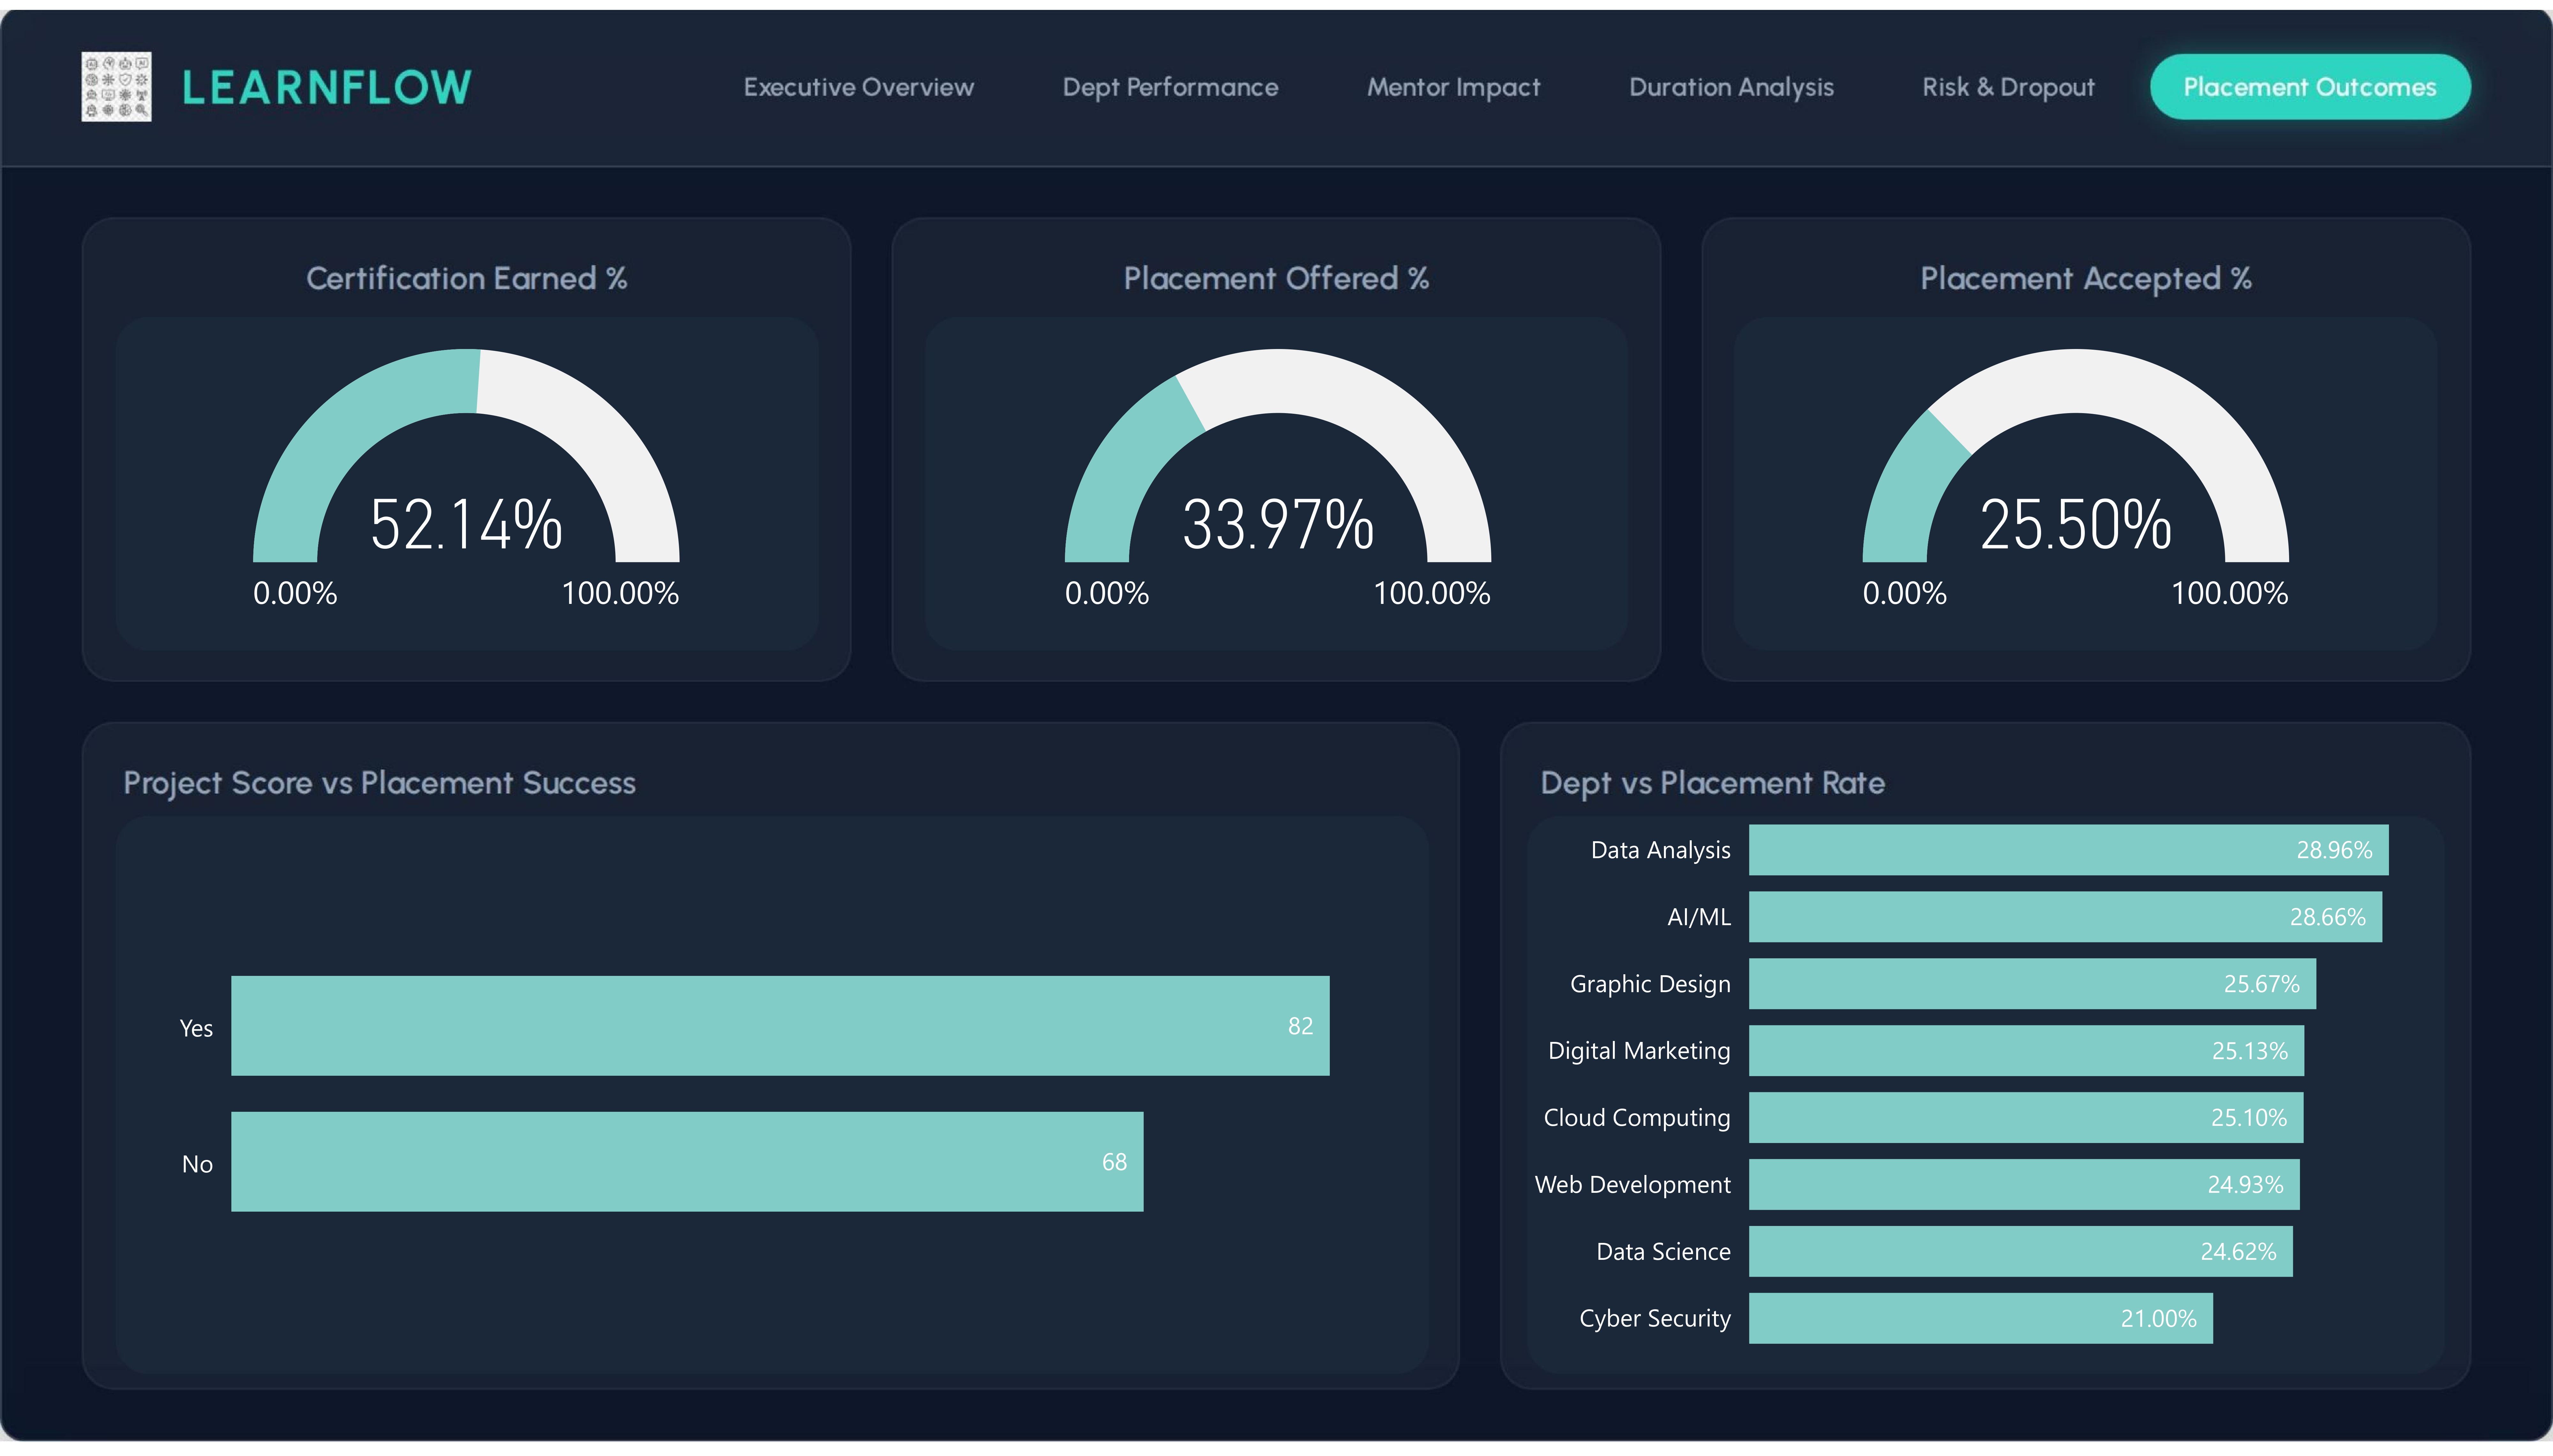

The page's visual inventory and layout, read from the dashboard file:
{"tool":"powerbi","page":{"name":"Placement Outcomes","canvas":[1280,720],"ordinal":5},"visuals":[{"type":"gauge","fields":{"Y":["internship_data.Certification Earned %"]},"box":[65.1,165,337.7,148.4],"z":0},{"type":"gauge","fields":{"Y":["internship_data.Placement Offered %"]},"box":[472.4,165,337.7,148.4],"z":1000},{"type":"gauge","fields":{"Y":["internship_data.Placement Accepted %"]},"box":[872.2,165,337.7,148.4],"z":2000},{"type":"barChart","fields":{"Category":["internship_data.Department"],"Y":["internship_data.Placement Rate"]},"box":[757.1,381.6,457.3,305.9],"z":3000},{"type":"clusteredBarChart","fields":{"Category":["internship_data.Placement_Accepted"],"Y":["Avg(internship_data.Final_Project_Score)"]},"box":[83.3,410.3,640.5,262],"z":4000}]}

Visuals, with their boxes on the page's 1280x720 design canvas (x1, y1, x2, y2). These are canvas units, not pixel positions in the 2553x1456 screenshot, which may show the page scaled, cropped or inside an application window:
gauge - internship_data.Certification Earned %: Rect(65, 165, 403, 313)
gauge - internship_data.Placement Offered %: Rect(472, 165, 810, 313)
gauge - internship_data.Placement Accepted %: Rect(872, 165, 1210, 313)
barChart - internship_data.Department x internship_data.Placement Rate: Rect(757, 382, 1214, 688)
clusteredBarChart - internship_data.Placement_Accepted x Avg(internship_data.Final_Project_Score): Rect(83, 410, 724, 672)
